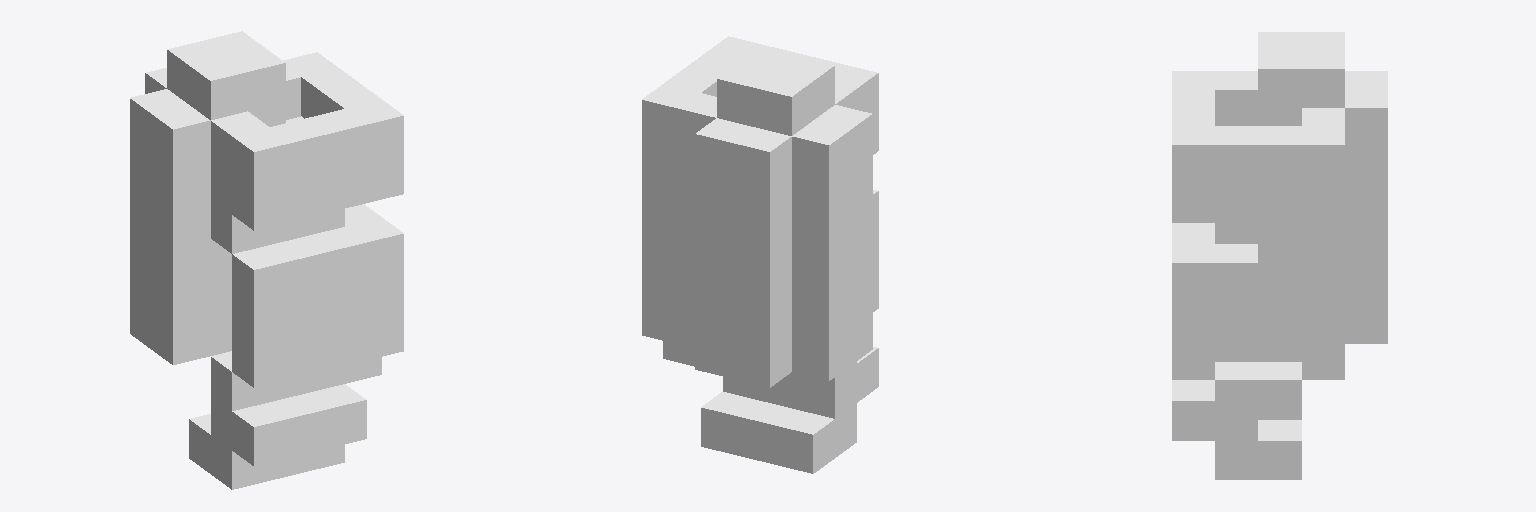
The model's file is Arm-2.obj.
The picture shows the model from 3 angles: view 1: azimuth 30°, elevation 25°; view 2: azimuth 150°, elevation 25°; view 3: azimuth 270°, elevation 25°; orthographic projection.
Visible parts, largest first — view 1: object 1; view 2: object 1; view 3: object 1.
Boxes of the visible parts, x1,y1,x2,y2 form: object 1: [130, 31, 403, 489]; object 1: [642, 36, 878, 473]; object 1: [1172, 32, 1387, 479].
Bounding box in the file's own units: 0.5 × 1 × 0.5.